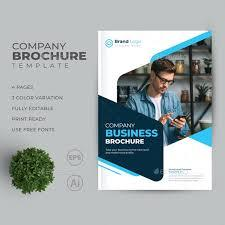paper: (99, 30, 213, 190)
